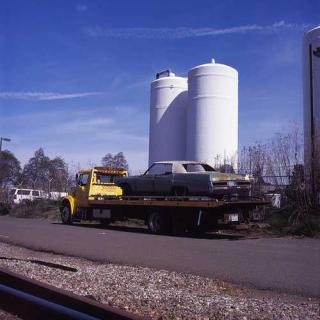Towing_truck: (58, 160, 272, 236)
